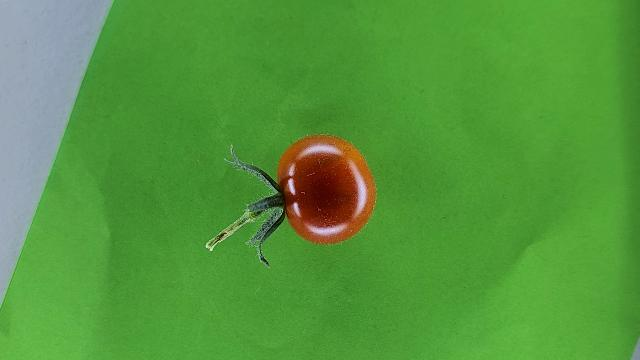Fully Grown: (276, 134, 378, 245)
